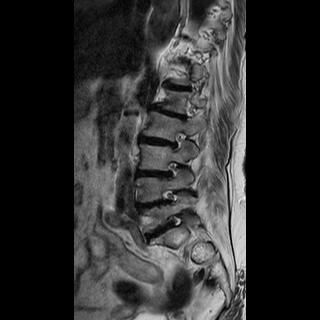LFS1: (155, 185, 186, 210)
RFS0: (161, 155, 186, 183), (165, 125, 189, 154)
